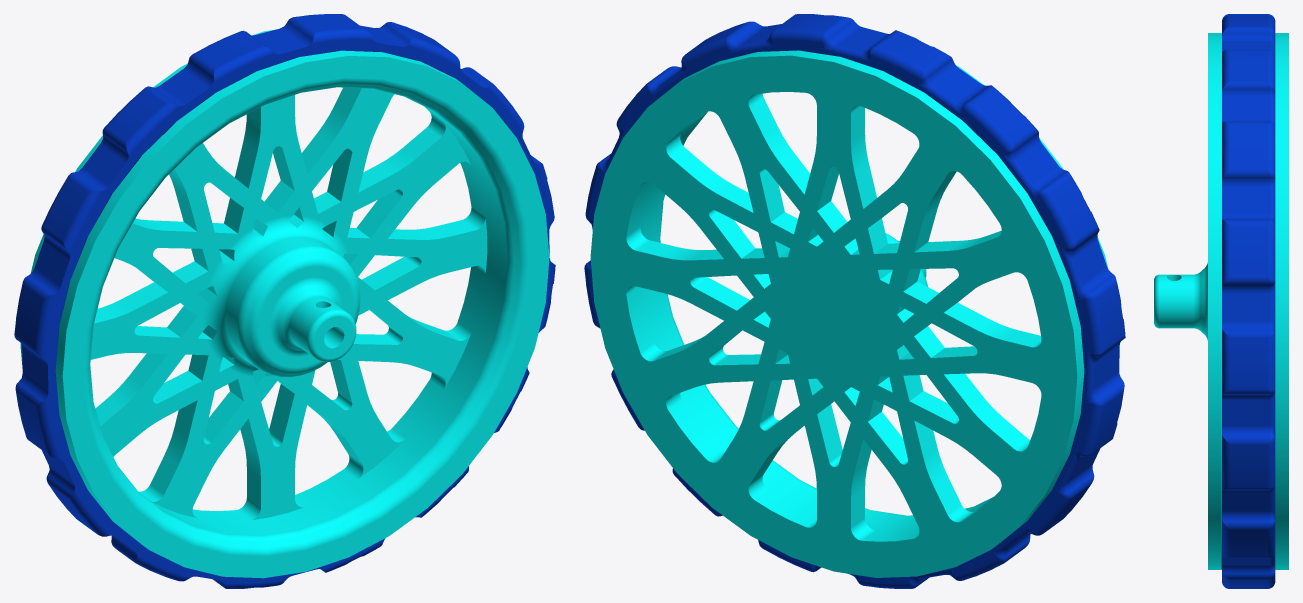
The model's file is wheel.dae.
3 views of the same model, side by side, from view 1: azimuth 30°, elevation 25°; view 2: azimuth 150°, elevation 25°; view 3: azimuth 270°, elevation 25° (orthographic). The views are drawn at different scales.
Parts seen in each view (by area): view 1: NAUO2, NAUO1; view 2: NAUO2, NAUO1; view 3: NAUO1, NAUO2.
Part boxes in pixels (box(x1,y1,x2,y2)): NAUO2: box(20, 29, 549, 578); NAUO1: box(14, 14, 555, 588); NAUO2: box(590, 50, 1108, 577); NAUO1: box(584, 14, 1125, 588); NAUO1: box(1222, 14, 1275, 588); NAUO2: box(1154, 33, 1288, 569).
Bounding box in the file's own units: 0.1066 × 0.025 × 0.1066.
